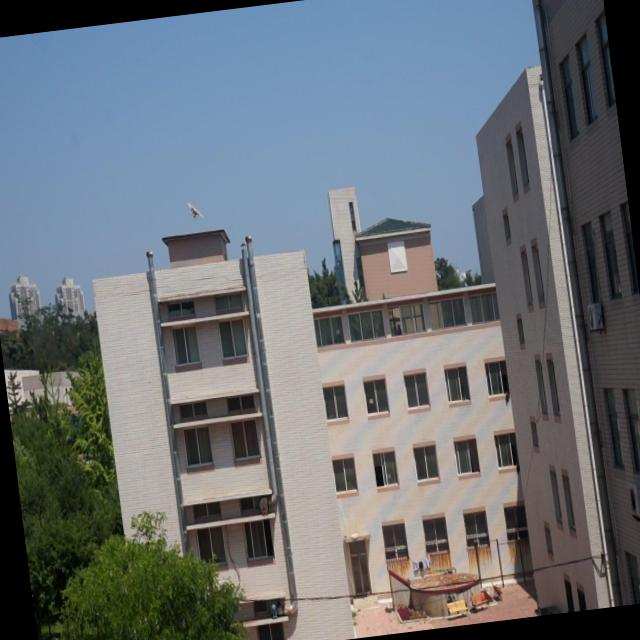drone: (182, 196, 205, 224)
